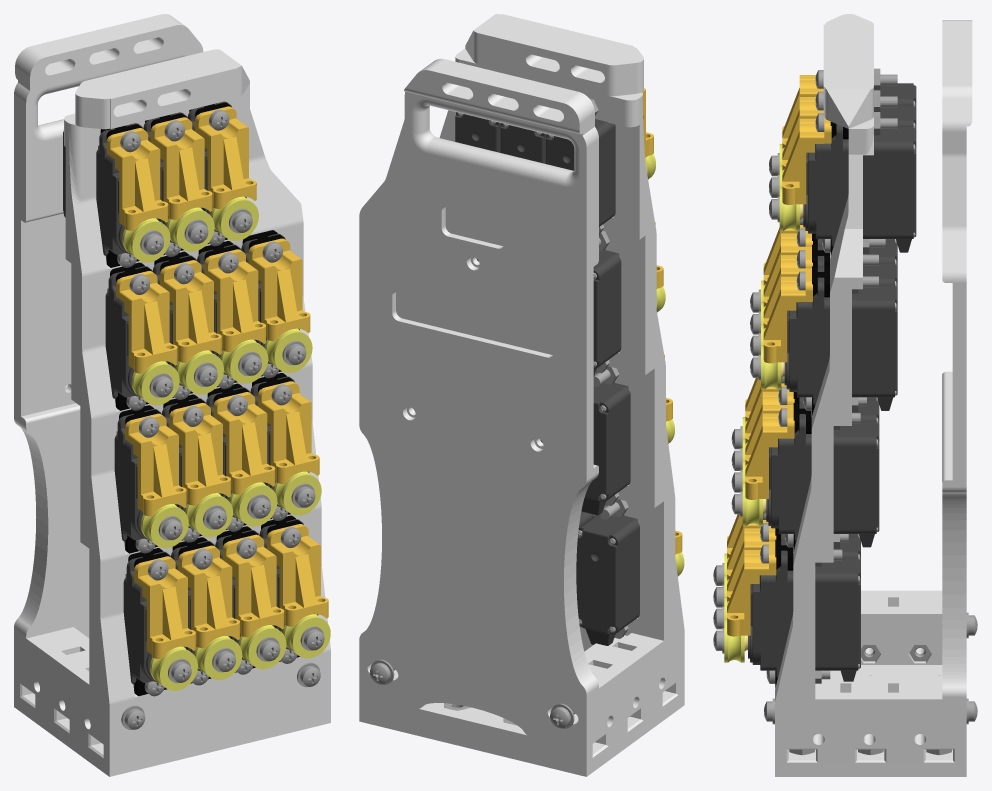
The model's file is lower_hand_assembly_withoutelec_asm.glb.
The picture shows the model from 3 angles, left to right: view 1: azimuth 30°, elevation 25°; view 2: azimuth 150°, elevation 25°; view 3: azimuth 270°, elevation 25°; orthographic projection. The views are drawn at different scales.
Visible parts, largest first — view 1: Node1, Node5, Node9, Node6, Node8, Node2, Node7; view 2: Node9, Node1, Node2, Node8, Node5, Node6; view 3: Node1, Node2, Node9, Node5, Node8, Node6, Node7.
Boxes of the visible parts, bbox=[...] form: Node1: bbox=[14, 49, 330, 776]; Node5: bbox=[106, 106, 328, 658]; Node9: bbox=[14, 14, 303, 674]; Node6: bbox=[122, 196, 330, 690]; Node8: bbox=[117, 109, 324, 729]; Node2: bbox=[63, 101, 318, 690]; Node7: bbox=[100, 102, 302, 696]; Node9: bbox=[359, 54, 643, 737]; Node1: bbox=[359, 14, 684, 776]; Node2: bbox=[455, 112, 643, 645]; Node8: bbox=[369, 98, 628, 728]; Node5: bbox=[642, 88, 682, 554]; Node6: bbox=[645, 154, 684, 576]; Node1: bbox=[775, 14, 966, 776]; Node2: bbox=[748, 83, 916, 681]; Node9: bbox=[830, 20, 972, 736]; Node5: bbox=[727, 75, 831, 636]; Node8: bbox=[713, 68, 977, 755]; Node6: bbox=[724, 144, 799, 662]; Node7: bbox=[775, 122, 848, 687].
Size of the model in its own units: 70.02 by 198 by 72.02.
